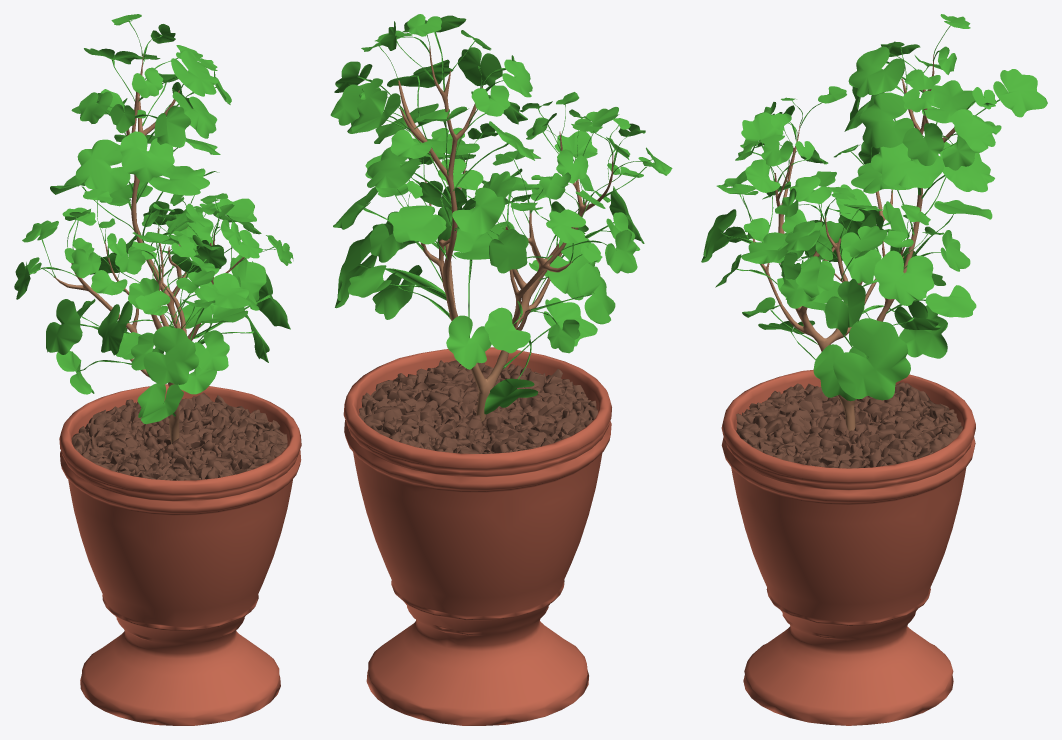
Rendered from SM_PottedPlant.fbx.
3 renders of one model, left to right at view 1: azimuth 30°, elevation 25°; view 2: azimuth 150°, elevation 25°; view 3: azimuth 270°, elevation 25°, orthographic. The views are drawn at different scales.
Visible parts, largest first — view 1: pot, leaves, pebbles, stem; view 2: pot, leaves, pebbles, stem; view 3: pot, leaves, pebbles, stem.
Part boxes in pixels (x1=…): pot: x1=59, y1=384, x2=301, y2=725; leaves: x1=14, y1=14, x2=293, y2=424; pebbles: x1=71, y1=392, x2=287, y2=480; stem: x1=54, y1=54, x2=244, y2=443; pot: x1=343, y1=347, x2=611, y2=725; leaves: x1=330, y1=14, x2=672, y2=414; pebbles: x1=359, y1=360, x2=597, y2=453; stem: x1=398, y1=47, x2=613, y2=421; pot: x1=721, y1=369, x2=975, y2=725; leaves: x1=701, y1=14, x2=1047, y2=401; pebbles: x1=736, y1=382, x2=962, y2=468; stem: x1=752, y1=55, x2=967, y2=431.
Bounding box in the file's own units: 58.74 × 134 × 63.36.
